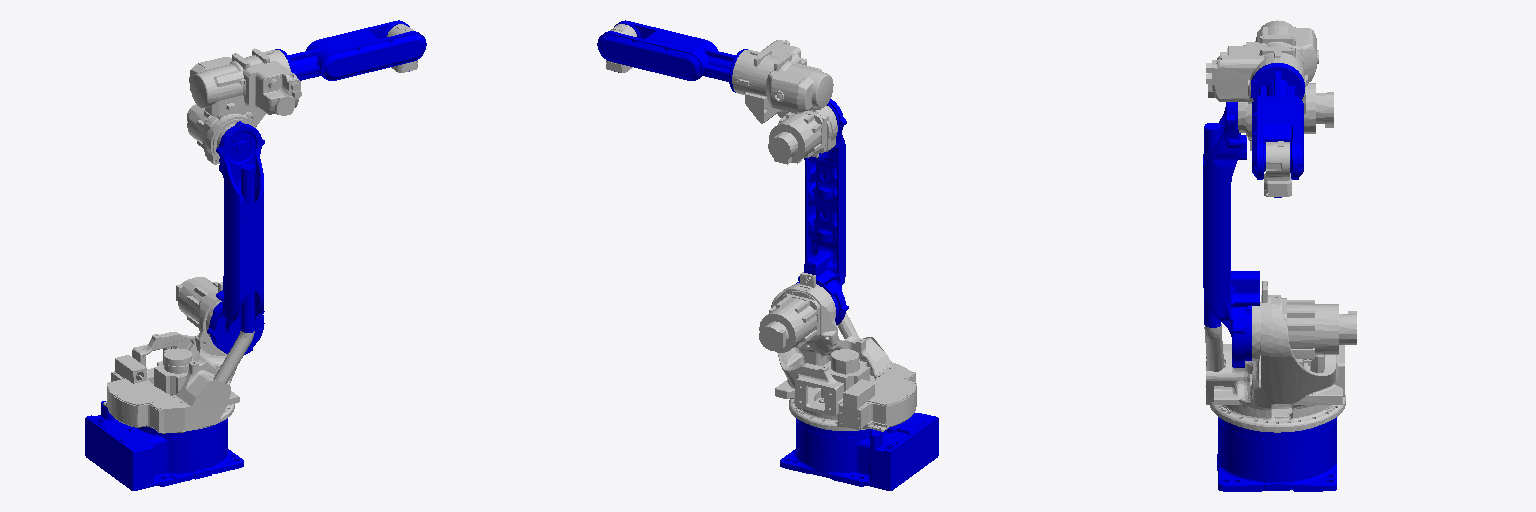
The robot description file, URDF, robot "motoman_mh6":
<?xml version="1.0" ?>
<!-- =================================================================================== -->
<!-- |    This document was autogenerated by xacro from mh6.xacro                      | -->
<!-- |    EDITING THIS FILE BY HAND IS NOT RECOMMENDED                                 | -->
<!-- =================================================================================== -->
<robot name="motoman_mh6" xmlns:xacro="http://ros.org/wiki/xacro">
  <!-- link list -->
  <link name="base_link">
    <visual>
      <geometry>
        <mesh filename="package://motoman_mh6_support/meshes/mh6/visual/MH6_BASE_AXIS.stl"/>
      </geometry>
      <material name="blue">
        <color rgba="0 0 1 1"/>
      </material>
    </visual>
    <collision>
      <geometry>
        <mesh filename="package://motoman_mh6_support/meshes/mh6/collision/MH6_BASE_AXIS.stl"/>
      </geometry>
      <material name="yellow">
        <color rgba="0 1 1 1"/>
      </material>
    </collision>
  </link>
  <link name="link_s">
    <visual>
      <geometry>
        <mesh filename="package://motoman_mh6_support/meshes/mh6/visual/MH6_S_AXIS.stl"/>
      </geometry>
      <material name="silver">
        <color rgba="0.8 0.8 0.8 1"/>
      </material>
    </visual>
    <collision>
      <geometry>
        <mesh filename="package://motoman_mh6_support/meshes/mh6/collision/MH6_S_AXIS.stl"/>
      </geometry>
      <material name="yellow"/>
    </collision>
  </link>
  <link name="link_l">
    <visual>
      <geometry>
        <mesh filename="package://motoman_mh6_support/meshes/mh6/visual/MH6_L_AXIS.stl"/>
      </geometry>
      <material name="blue"/>
    </visual>
    <collision>
      <geometry>
        <mesh filename="package://motoman_mh6_support/meshes/mh6/collision/MH6_L_AXIS.stl"/>
      </geometry>
      <material name="yellow"/>
    </collision>
  </link>
  <link name="link_u">
    <visual>
      <geometry>
        <mesh filename="package://motoman_mh6_support/meshes/mh6/visual/MH6_U_AXIS.stl"/>
      </geometry>
      <material name="silver"/>
    </visual>
    <collision>
      <geometry>
        <mesh filename="package://motoman_mh6_support/meshes/mh6/collision/MH6_U_AXIS.stl"/>
      </geometry>
      <material name="yellow"/>
    </collision>
  </link>
  <link name="link_r">
    <visual>
      <geometry>
        <mesh filename="package://motoman_mh6_support/meshes/mh6/visual/MH6_R_AXIS.stl"/>
      </geometry>
      <material name="blue"/>
    </visual>
    <collision>
      <geometry>
        <mesh filename="package://motoman_mh6_support/meshes/mh6/collision/MH6_R_AXIS.stl"/>
      </geometry>
      <material name="yellow"/>
    </collision>
  </link>
  <link name="link_b">
    <visual>
      <geometry>
        <mesh filename="package://motoman_mh6_support/meshes/mh6/visual/MH6_B_AXIS.stl"/>
      </geometry>
      <material name="silver"/>
    </visual>
    <collision>
      <geometry>
        <mesh filename="package://motoman_mh6_support/meshes/mh6/collision/MH6_B_AXIS.stl"/>
      </geometry>
      <material name="yellow"/>
    </collision>
  </link>
  <link name="link_t">
    <visual>
      <geometry>
        <mesh filename="package://motoman_mh6_support/meshes/mh6/visual/MH6_T_AXIS.stl"/>
      </geometry>
      <material name="blue"/>
    </visual>
    <collision>
      <geometry>
        <mesh filename="package://motoman_mh6_support/meshes/mh6/collision/MH6_T_AXIS.stl"/>
      </geometry>
      <material name="yellow"/>
    </collision>
  </link>
  <!-- end of link list -->
  <!-- joint list -->
  <joint name="joint_s" type="revolute">
    <parent link="base_link"/>
    <child link="link_s"/>
    <origin xyz="0 0 0"/>
    <axis xyz="0 0 1"/>
    <limit effort="100" lower="-2.96705972839" upper="2.96705972839" velocity="3.83972435439"/>
  </joint>
  <joint name="joint_l" type="revolute">
    <parent link="link_s"/>
    <child link="link_l"/>
    <origin xyz="0.152 0 0.450"/>
    <axis xyz="0 1 0"/>
    <limit effort="100" lower="-1.57079632679" upper="2.70526034059" velocity="3.49065850399"/>
  </joint>
  <joint name="joint_u" type="revolute">
    <parent link="link_l"/>
    <child link="link_u"/>
    <origin xyz="0 0 0.614"/>
    <axis xyz="0 -1 0"/>
    <!-- These limits are from the datasheet, but they always cause self collisions. -->
    <limit effort="100" lower="-3.05432619099" upper="4.36332312999" velocity="3.83972435439"/>
  </joint>
  <joint name="joint_r" type="revolute">
    <parent link="link_u"/>
    <child link="link_r"/>
    <origin xyz="0.197 0 0.155"/>
    <axis xyz="-1 0 0"/>
    <limit effort="100" lower="-3.14159265359" upper="3.14159265359" velocity="7.15584993318"/>
  </joint>
  <joint name="joint_b" type="revolute">
    <parent link="link_r"/>
    <child link="link_b"/>
    <origin xyz="0.443 0 0"/>
    <axis xyz="0 -1 0"/>
    <limit effort="100" lower="-0.785398163397" upper="3.92699081699" velocity="7.15584993318"/>
  </joint>
  <joint name="joint_t" type="revolute">
    <parent link="link_b"/>
    <child link="link_t"/>
    <origin xyz="0 0 -0.095"/>
    <axis xyz="0 0 1"/>
    <limit effort="100" lower="-6.28318530718" upper="6.28318530718" velocity="10.6465084372"/>
  </joint>
  <!-- end of joint list -->
</robot>

--- Facts derived from the render (not from the file) ---
Views: 3 orthographic renders of the robot side by side, from view 1: azimuth 30°, elevation 25°; view 2: azimuth 150°, elevation 25°; view 3: azimuth 270°, elevation 25°.
Robot: motoman_mh6 — 7 links, 6 joints (6 revolute); root link base_link; default pose: every joint at zero.
Visible links, largest first — view 1: link_s, link_l, base_link, link_u, link_r; view 2: link_s, link_u, base_link, link_l, link_r; view 3: link_s, link_l, base_link, link_u, link_r, link_b.
Link boxes in pixels (left/top/right/bottom): link_s: left=103, top=277, right=254, bottom=433; link_l: left=207, top=121, right=264, bottom=354; base_link: left=85, top=401, right=243, bottom=490; link_u: left=187, top=48, right=301, bottom=164; link_r: left=275, top=20, right=426, bottom=80; link_s: left=759, top=272, right=916, bottom=431; link_u: left=732, top=40, right=837, bottom=164; base_link: left=780, top=413, right=938, bottom=490; link_l: left=796, top=99, right=848, bottom=324; link_r: left=597, top=20, right=747, bottom=92; link_s: left=1204, top=281, right=1356, bottom=432; link_l: left=1203, top=102, right=1259, bottom=367; base_link: left=1217, top=417, right=1336, bottom=491; link_u: left=1206, top=20, right=1333, bottom=150; link_r: left=1251, top=63, right=1304, bottom=179; link_b: left=1264, top=141, right=1291, bottom=196.
Size in the robot's own frame: 1.09 by 0.3866 by 1.29 metres.
Meshes: 7 distinct files referenced, 7 mesh visuals loaded (7 binary STL).